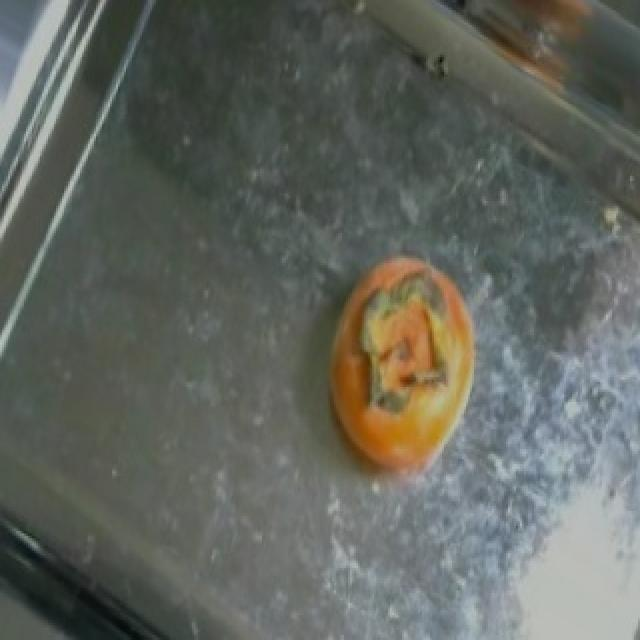Fruit: (300, 241, 502, 504)
